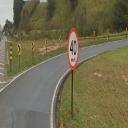speed_limit_40: (67, 26, 79, 71)
